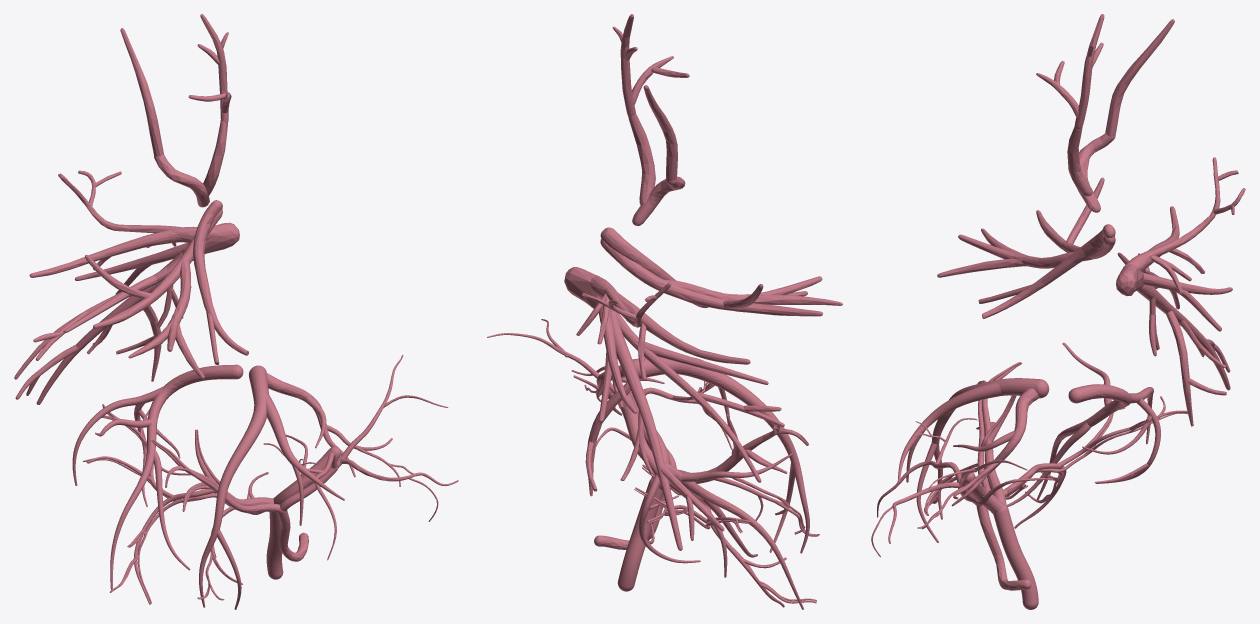
Rendered from cardiovascular-10.glb.
3 renders of one model, left to right at view 1: azimuth 30°, elevation 25°; view 2: azimuth 150°, elevation 25°; view 3: azimuth 270°, elevation 25°, orthographic. The views are drawn at different scales.
Visible parts, largest first — view 1: FJ3083, FJ3118, FJ3050, FJ3032, FJ3121, FJ3070, FJ3041, FJ3084, FJ3049, FJ3119, FJ3037, FJ3051 (+15 smaller); view 2: FJ3083, FJ3041, FJ3118, FJ3059, FJ3050, FJ3034, FJ3082, FJ3121, FJ3074, FJ3031, FJ3032, FJ3070 (+18 smaller); view 3: FJ3118, FJ3082, FJ3032, FJ3121, FJ3083, FJ3084, FJ3070, FJ3097, FJ3037, FJ3041, FJ3051, FJ3064 (+15 smaller).
Part boxes in pixels (x1=…): FJ3083: x1=199, y1=365, x2=268, y2=607; FJ3118: x1=110, y1=364, x2=243, y2=589; FJ3050: x1=29, y1=226, x2=216, y2=277; FJ3032: x1=193, y1=200, x2=248, y2=355; FJ3121: x1=95, y1=409, x2=190, y2=570; FJ3070: x1=120, y1=28, x2=163, y2=156; FJ3041: x1=36, y1=252, x2=182, y2=404; FJ3084: x1=265, y1=392, x2=344, y2=500; FJ3049: x1=74, y1=243, x2=188, y2=280; FJ3119: x1=72, y1=386, x2=163, y2=485; FJ3037: x1=167, y1=260, x2=191, y2=351; FJ3051: x1=59, y1=175, x2=181, y2=233; FJ3083: x1=632, y1=356, x2=809, y2=553; FJ3041: x1=611, y1=311, x2=682, y2=550; FJ3118: x1=613, y1=391, x2=803, y2=609; FJ3059: x1=617, y1=312, x2=761, y2=482; FJ3050: x1=590, y1=274, x2=750, y2=364; FJ3034: x1=600, y1=239, x2=733, y2=310; FJ3082: x1=617, y1=478, x2=663, y2=591; FJ3121: x1=648, y1=453, x2=793, y2=557; FJ3074: x1=714, y1=414, x2=818, y2=536; FJ3031: x1=628, y1=114, x2=655, y2=205; FJ3032: x1=600, y1=227, x2=708, y2=307; FJ3070: x1=643, y1=85, x2=677, y2=180; FJ3118: x1=1036, y1=384, x2=1131, y2=500; FJ3082: x1=993, y1=504, x2=1038, y2=609; FJ3032: x1=982, y1=224, x2=1115, y2=318; FJ3121: x1=1006, y1=342, x2=1151, y2=506; FJ3083: x1=931, y1=378, x2=1049, y2=519; FJ3084: x1=897, y1=383, x2=1002, y2=482; FJ3070: x1=1105, y1=19, x2=1174, y2=137; FJ3097: x1=951, y1=388, x2=1039, y2=506; FJ3037: x1=958, y1=234, x2=1092, y2=268; FJ3041: x1=1137, y1=285, x2=1230, y2=390; FJ3051: x1=1144, y1=157, x2=1220, y2=257; FJ3064: x1=1074, y1=14, x2=1104, y2=128.
Size of the model in its own units: 0.1713 by 0.284 by 0.1675.
